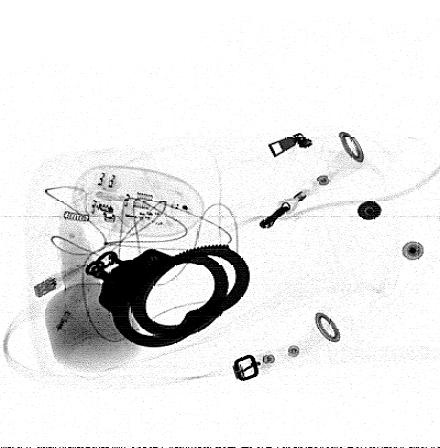HandCuffs: (83, 243, 252, 350)
